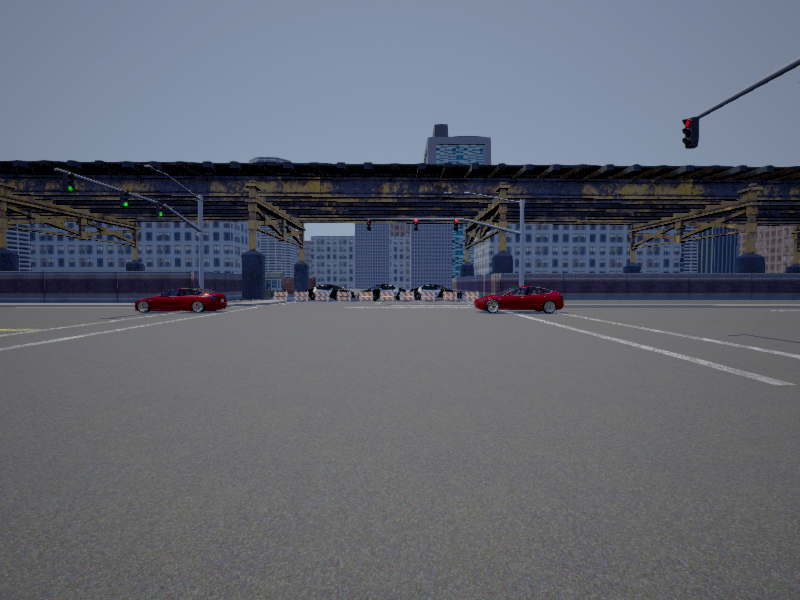Attacker: (135, 289, 227, 313)
Benign: (473, 285, 564, 313)
